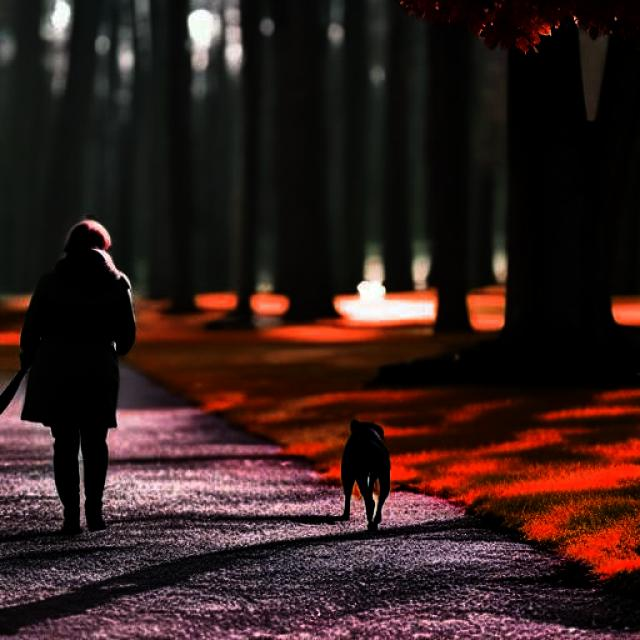Unleashed_Dog: (54, 419, 391, 533)
